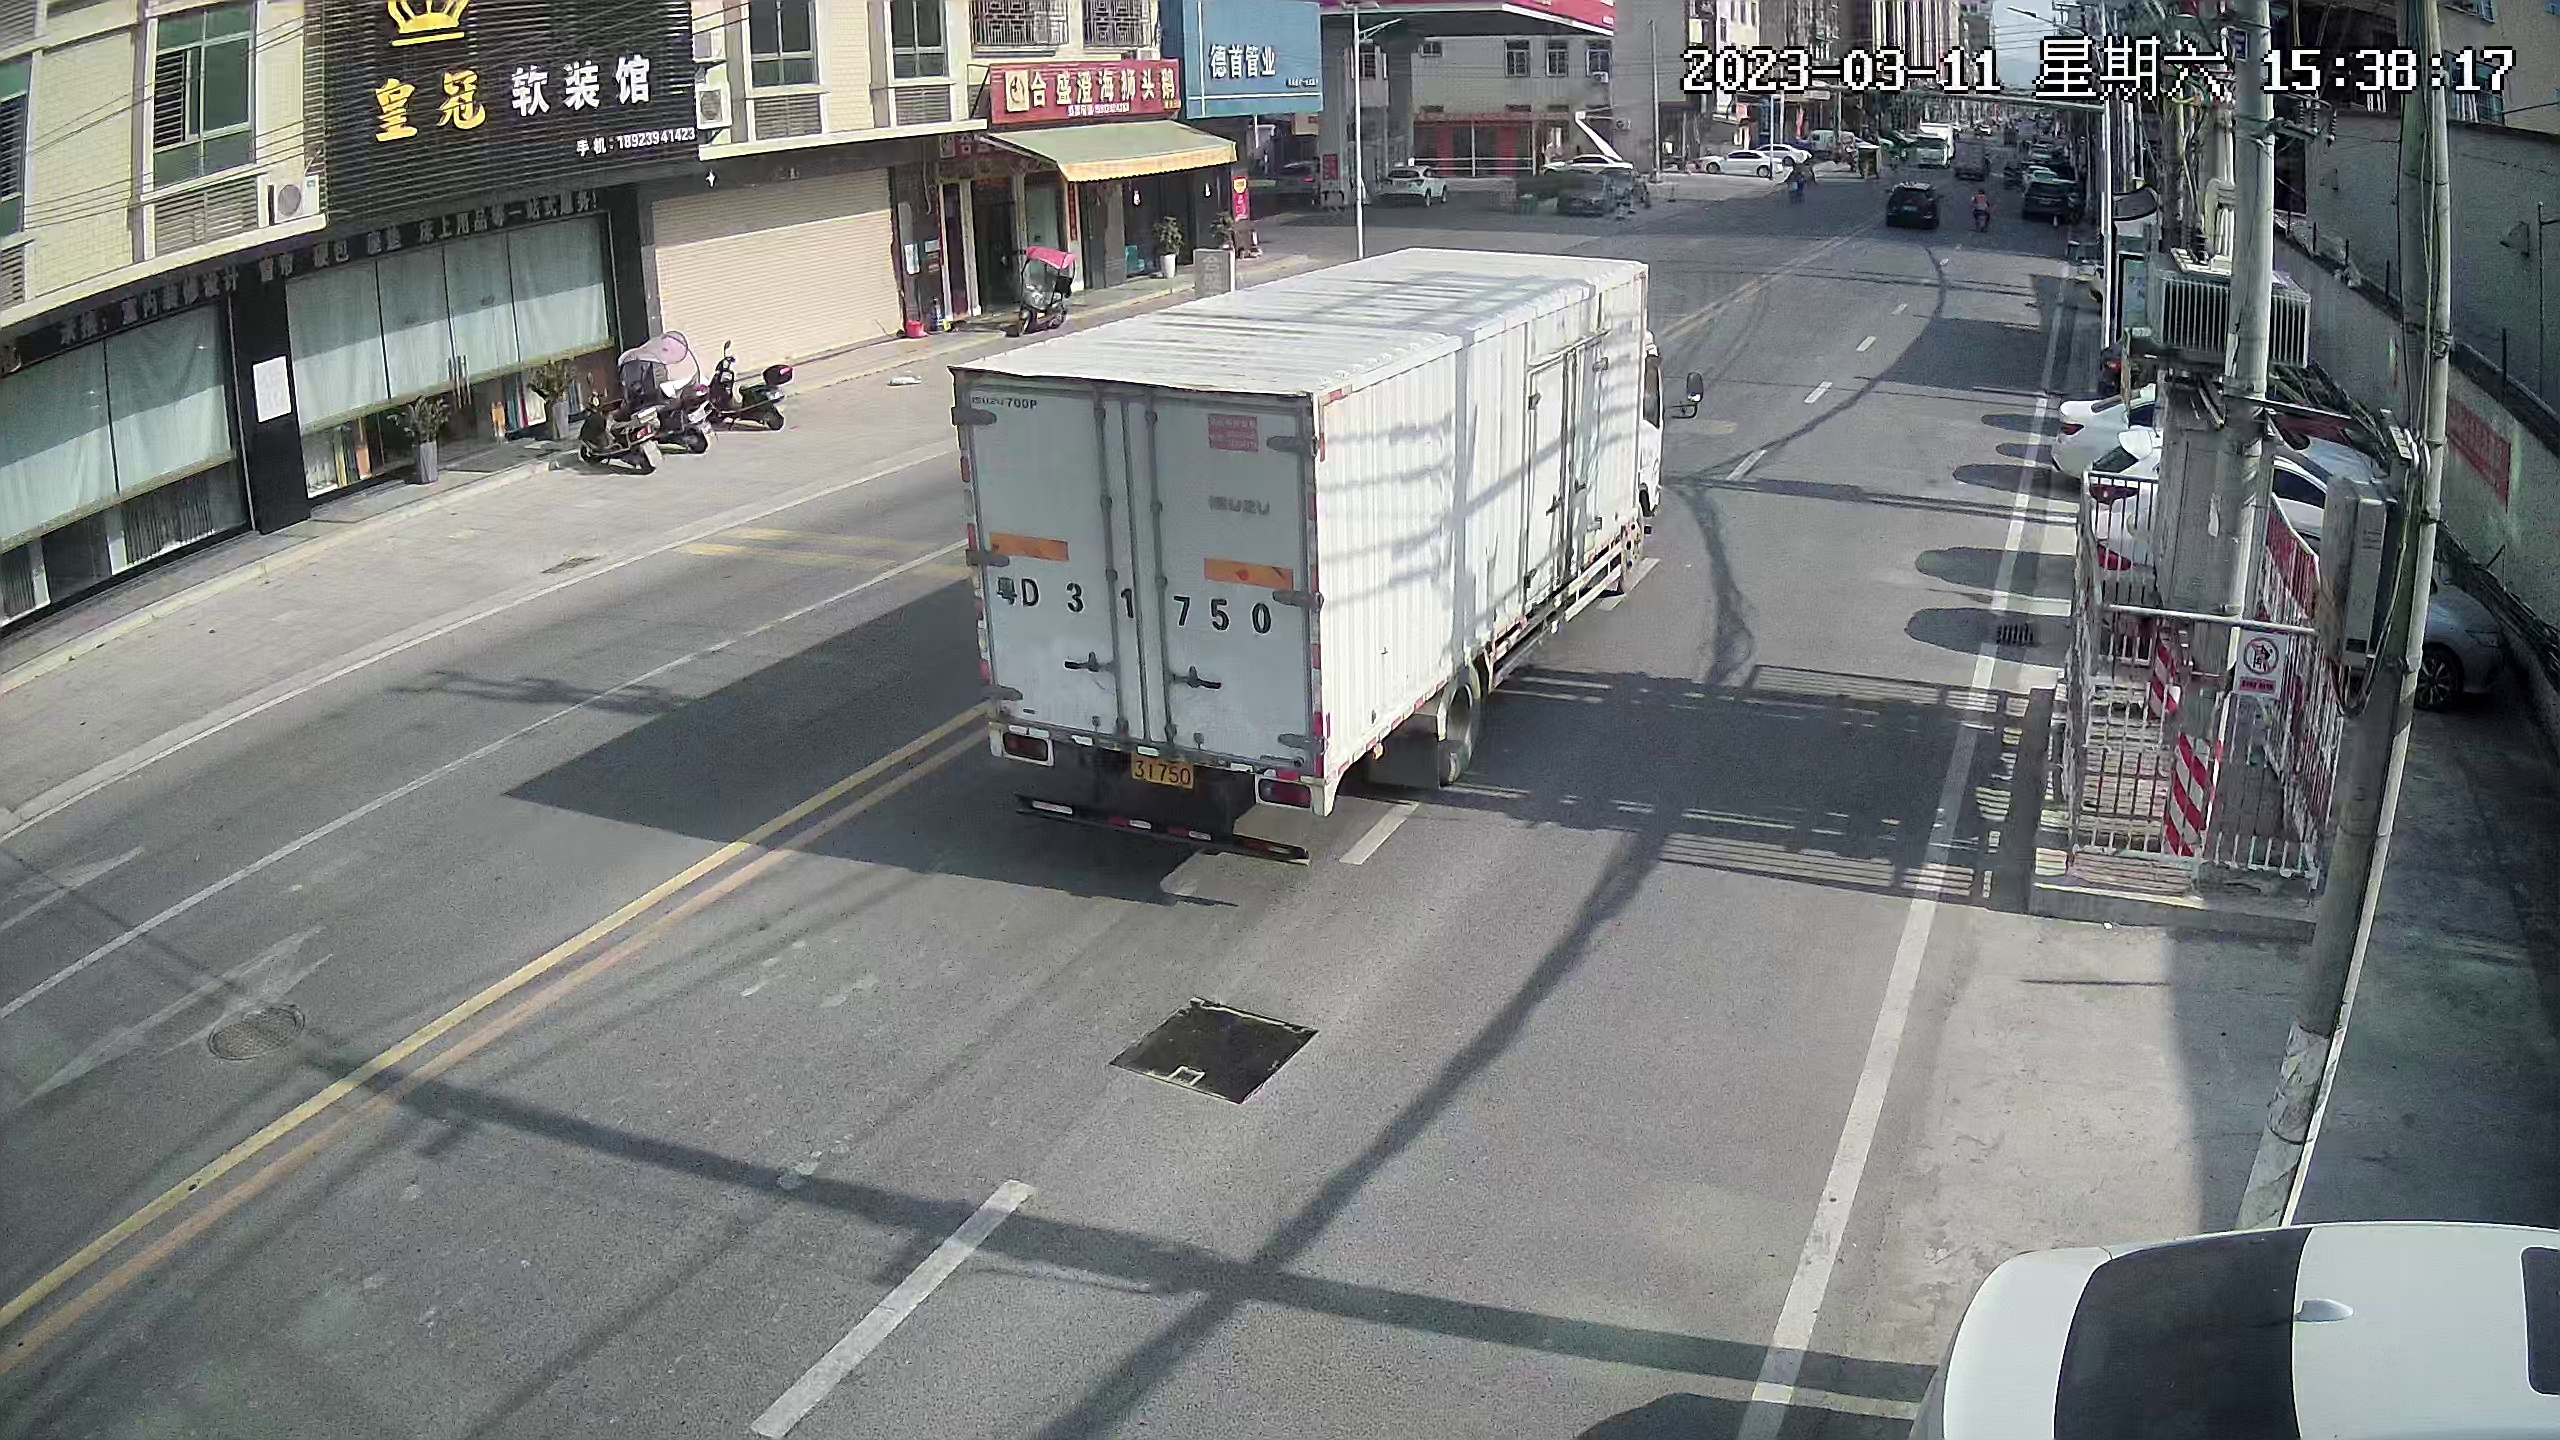motorcycle: (629, 345, 703, 438), (716, 353, 798, 433), (573, 399, 658, 471), (1006, 239, 1069, 331), (1969, 185, 1996, 237)
sedan: (1959, 1211, 2560, 1440), (2085, 494, 2483, 698), (2069, 390, 2353, 448), (2113, 441, 2384, 498), (1698, 144, 1778, 185), (1558, 164, 1614, 218), (1888, 174, 1938, 236), (2031, 172, 2064, 223)
suv: (1377, 164, 1449, 213)
truck: (964, 248, 1683, 844), (1916, 120, 1953, 172)
